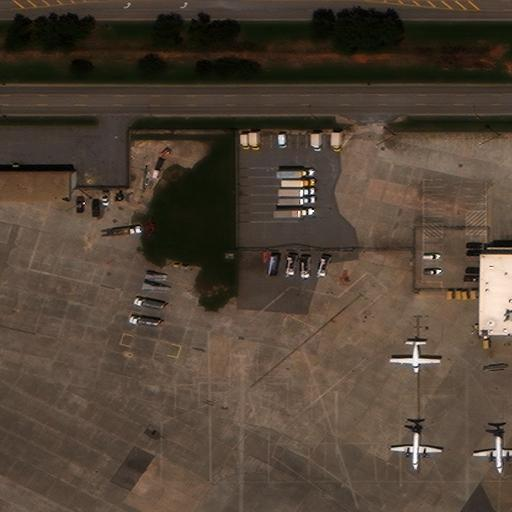Medium Civil Transport: (389, 418, 442, 472), (472, 422, 511, 476), (389, 338, 441, 374)
